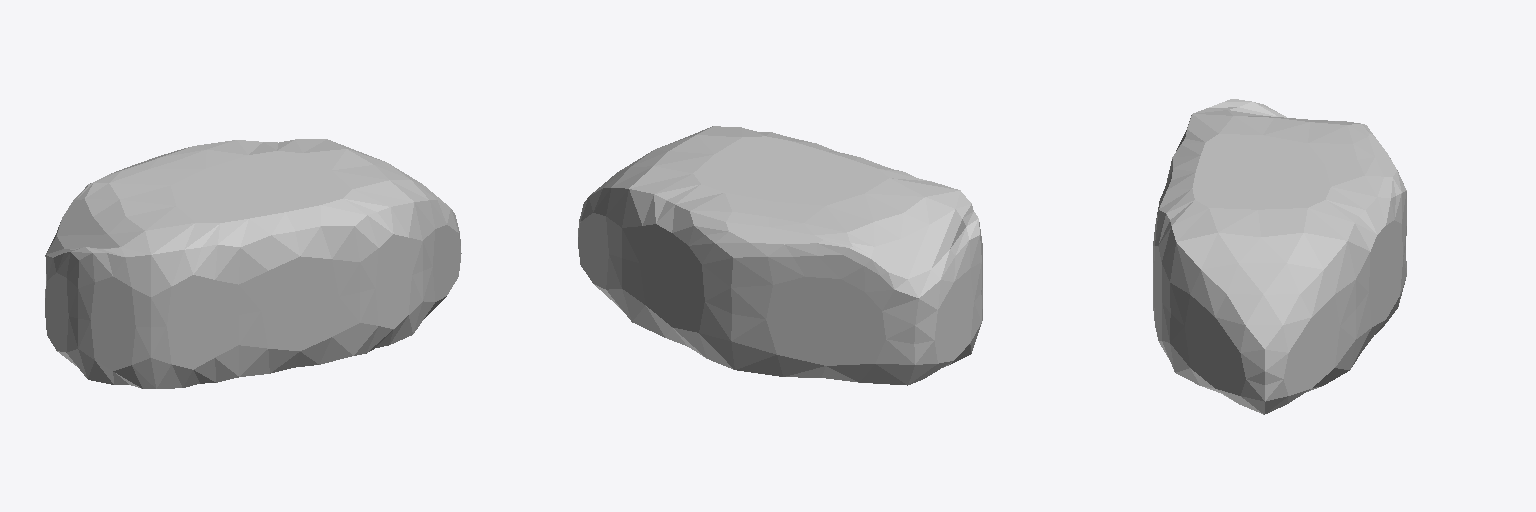
Rendered from model-init.obj.
3 renders of one model, left to right at view 1: azimuth 30°, elevation 25°; view 2: azimuth 150°, elevation 25°; view 3: azimuth 270°, elevation 25°, orthographic.
Parts seen in each view (by area): view 1: Mesh1 Model; view 2: Mesh1 Model; view 3: Mesh1 Model.
Boxes of the visible parts, box(x1,y1,x2,y2) form: Mesh1 Model: box(45, 139, 461, 388); Mesh1 Model: box(578, 126, 982, 385); Mesh1 Model: box(1153, 99, 1406, 414).
Bounding box in the file's own units: 3.9 × 1.47 × 2.18.